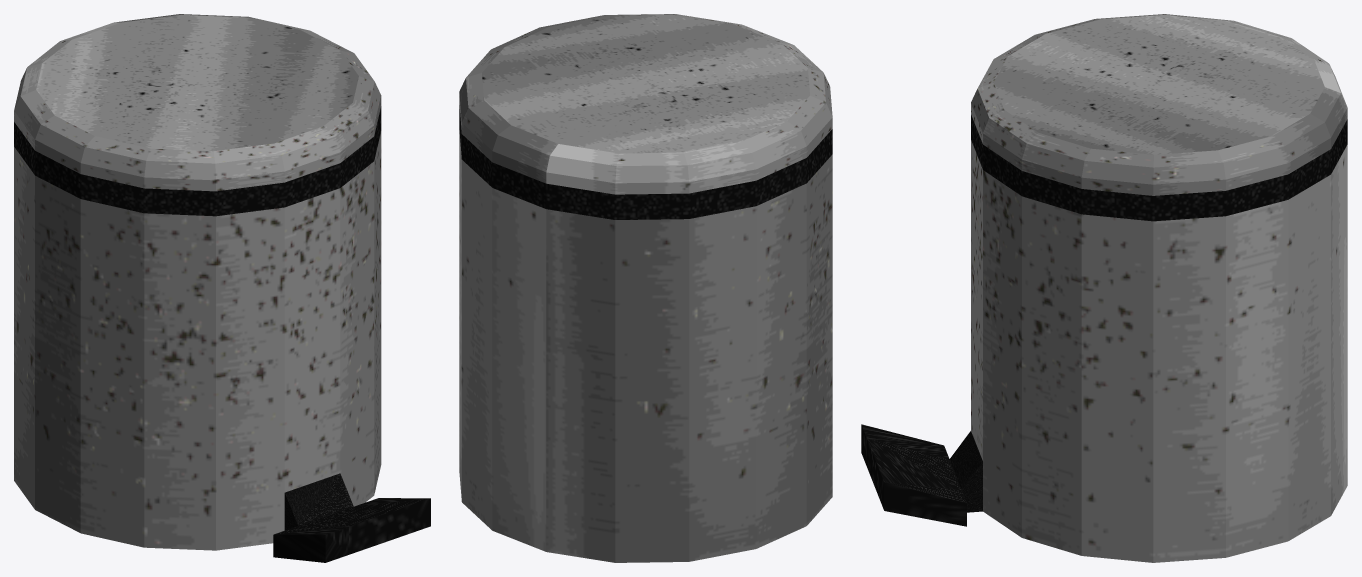
File: LixeiraBanheiro.fbx
3 renders of one model, left to right at view 1: azimuth 30°, elevation 25°; view 2: azimuth 150°, elevation 25°; view 3: azimuth 270°, elevation 25°, orthographic. The views are drawn at different scales.
Visible parts, largest first — view 1: Cylinder; view 2: Cylinder; view 3: Cylinder.
Boxes of the visible parts, x1=… form: Cylinder: x1=14, y1=14, x2=430, y2=562; Cylinder: x1=459, y1=14, x2=832, y2=562; Cylinder: x1=861, y1=14, x2=1347, y2=562.
Size of the model in its own units: 91.29 by 107 by 118.
Materials: 1 (1 with a texture image).
